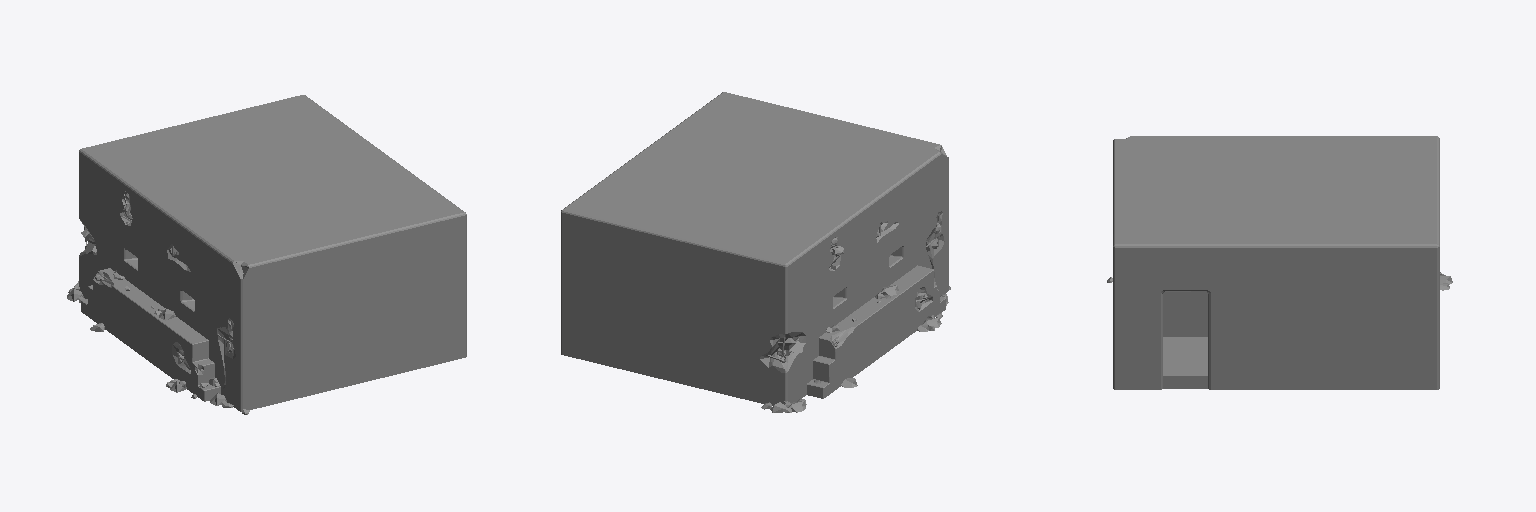
The model's file is Apt00.obj.
3 views of the same model, side by side, from view 1: azimuth 30°, elevation 25°; view 2: azimuth 150°, elevation 25°; view 3: azimuth 270°, elevation 25° (orthographic).
Visible parts, largest first — view 1: Object03; view 2: Object03; view 3: Object03.
Part boxes in pixels (bbox=[...]): Object03: bbox=[67, 95, 466, 414]; Object03: bbox=[561, 92, 950, 412]; Object03: bbox=[1107, 136, 1452, 389].
Bounding box in the file's own units: 129 × 70.24 × 151.